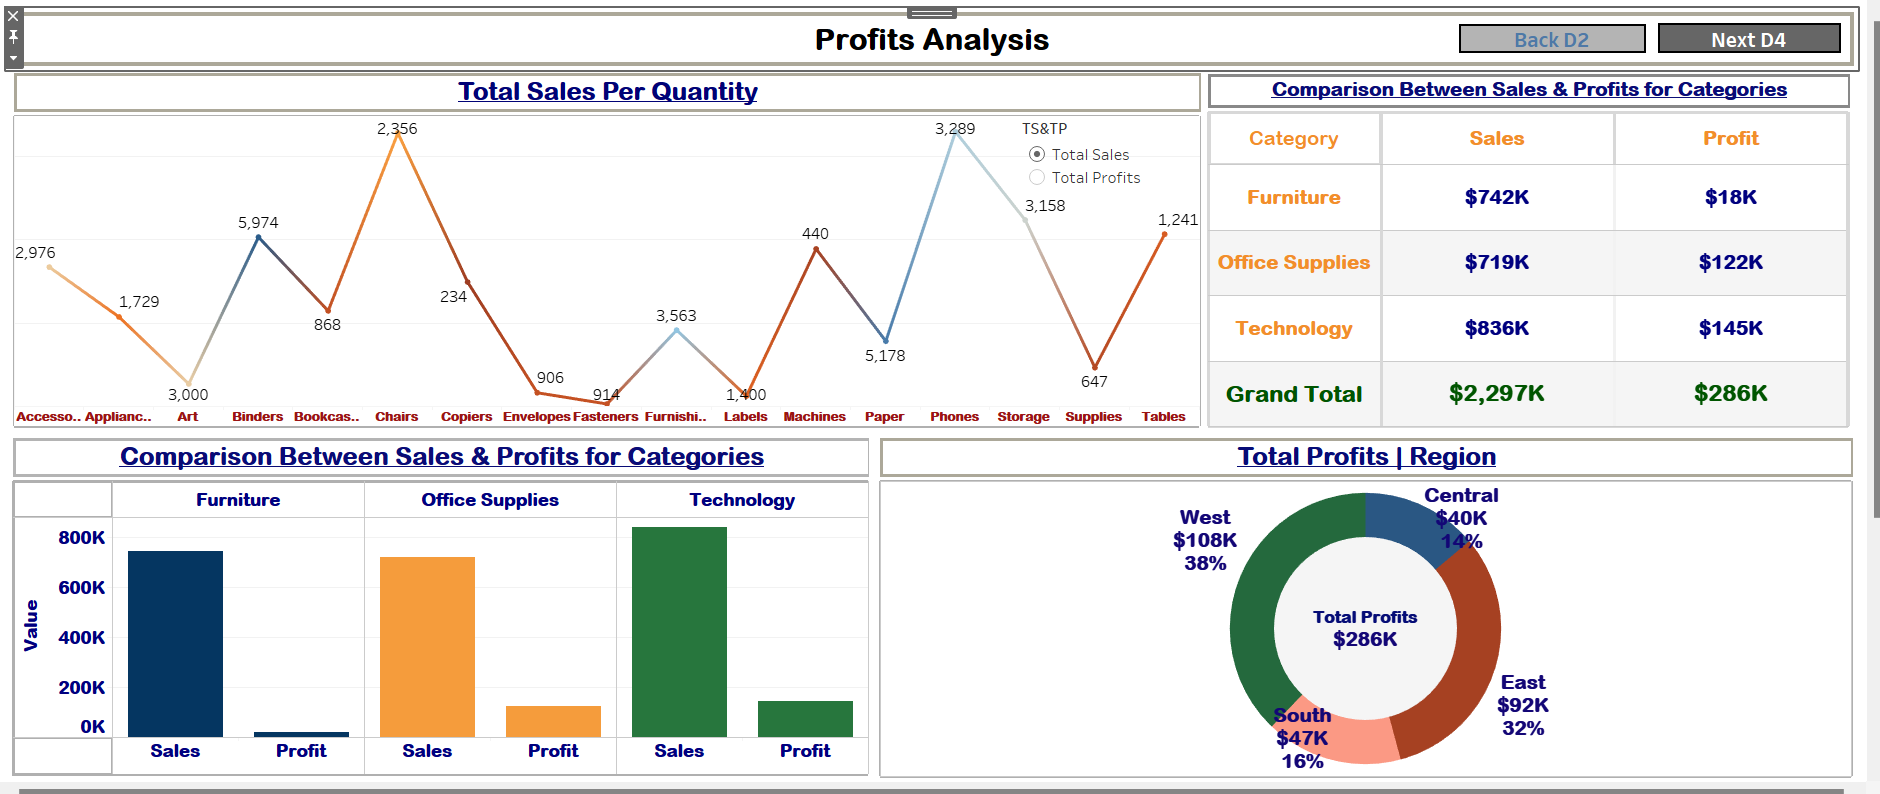

This screenshot's page, from the dashboard's own definition file:
{"tool":"tableau","page":{"name":"F3","canvas":[1000,1000],"units":"permille","ordinal":4},"visuals":[{"type":"title","box":[4.2,10,991.5,77.4]},{"type":"dashboard-object","box":[889,26.2,97.8,40]},{"type":"dashboard-object","box":[784,28.7,100.2,36.2]},{"type":"worksheet","title":"QNT|SubCat PT13","mark":"Line","rows":["Calculation_375769143317581831"],"cols":["Sub-Category"],"box":[6.6,86.1,636.1,439.4]},{"type":"worksheet","title":"Sales&Profits|Category(G.T)","mark":"Automatic","rows":["Category"],"box":[646.4,87.4,344.6,433.2]},{"type":"parameter","param":"[Parameters].[Parameter 1]","box":[548.2,101.7,93.4,65.5]},{"type":"worksheet","title":"Sales&Profits | Categories","mark":"Automatic","cols":["Category"],"box":[5.4,530.6,459.3,460.7]},{"type":"worksheet","title":"Profits|Region10","mark":"Pie","rows":["Calculation_375769143155494912","Calculation_375769143155494912"],"box":[468.3,530.6,521.4,458.2]}]}

Visuals, with their boxes on the dashboard's canvas, which has no fixed pixel size, in thousandths of its width and height (x1, y1, x2, y2). These are canvas units, not pixel positions in the 1880x794 screenshot, which may show the page scaled, cropped or inside an application window:
title: x1=4 y1=10 x2=996 y2=87
dashboard-object: x1=889 y1=26 x2=987 y2=66
dashboard-object: x1=784 y1=29 x2=884 y2=65
"QNT|SubCat PT13" worksheet (Line marks): x1=7 y1=86 x2=643 y2=526
"Sales&Profits|Category(G.T)" worksheet: x1=646 y1=87 x2=991 y2=521
parameter: x1=548 y1=102 x2=642 y2=167
"Sales&Profits | Categories" worksheet: x1=5 y1=531 x2=465 y2=991
"Profits|Region10" worksheet (Pie marks): x1=468 y1=531 x2=990 y2=989
